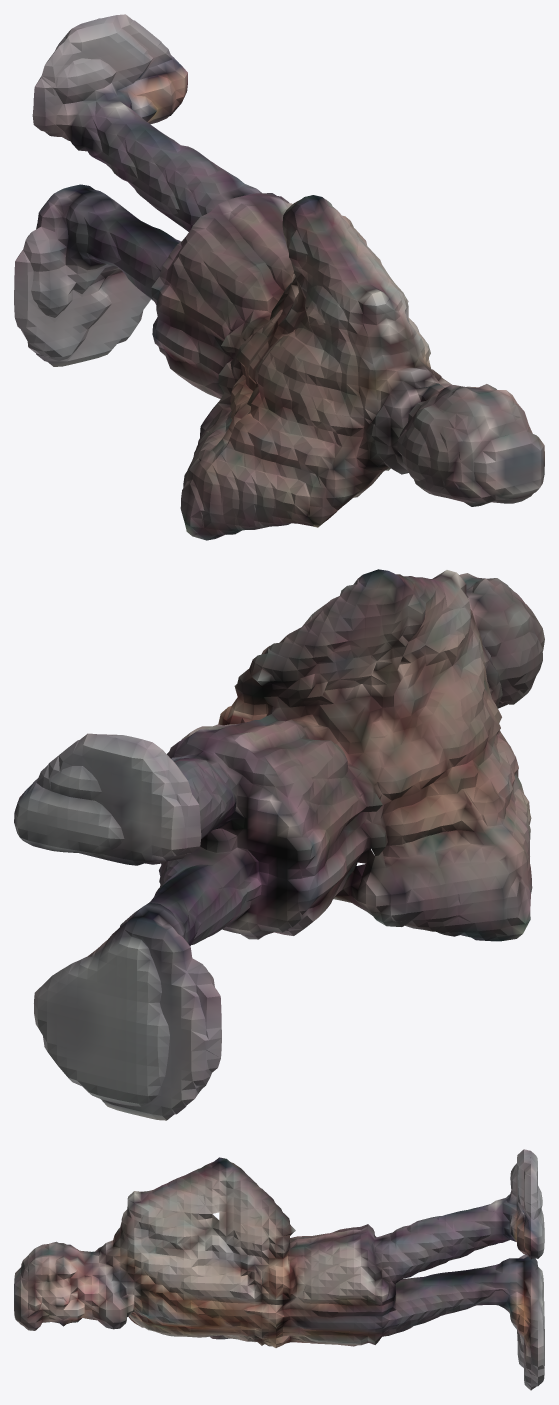
File: modern_merchant_m_0.glb
3 renders of one model, top to bottom at view 1: azimuth 30°, elevation 25°; view 2: azimuth 150°, elevation 25°; view 3: azimuth 270°, elevation 25°, orthographic. The views are drawn at different scales.
Parts seen in each view (by area): view 1: world; view 2: world; view 3: world.
Part boxes in pixels (<box>): world: <box>14,14,544,540</box>; world: <box>14,569,544,1120</box>; world: <box>14,1149,544,1390</box>.
Size of the model in its own units: 0.3542 by 0.4936 by 1.03.
